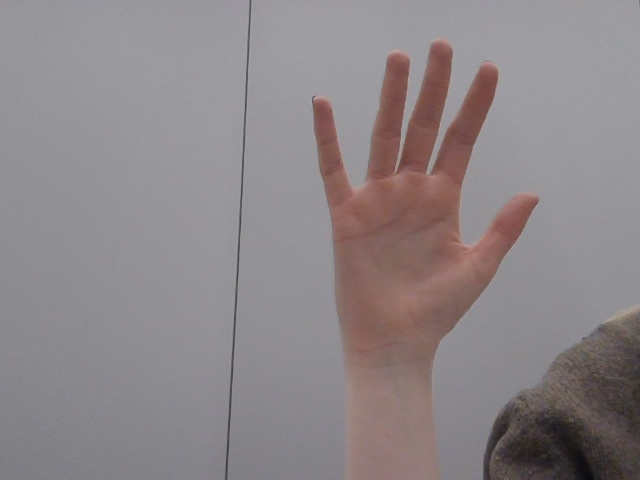nada: (278, 28, 551, 358)
